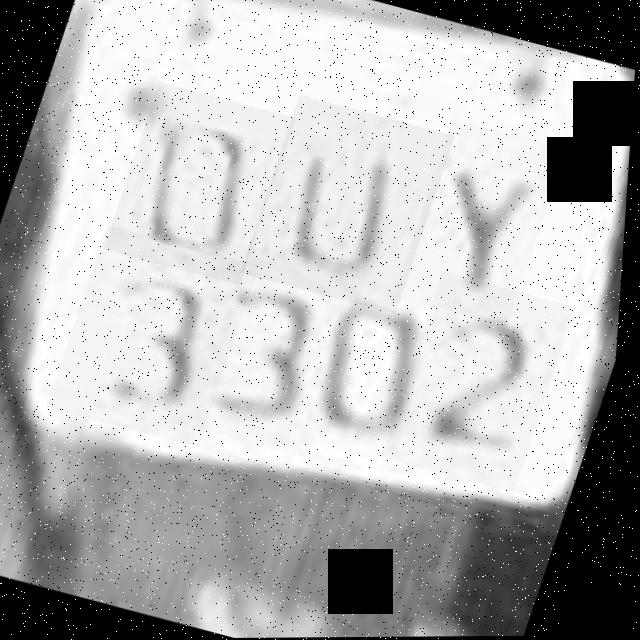2: (384, 271, 581, 494)
3: (49, 224, 264, 448), (161, 237, 372, 459)
O: (104, 81, 299, 286)
U: (241, 94, 458, 315)
Y: (395, 118, 570, 328)
